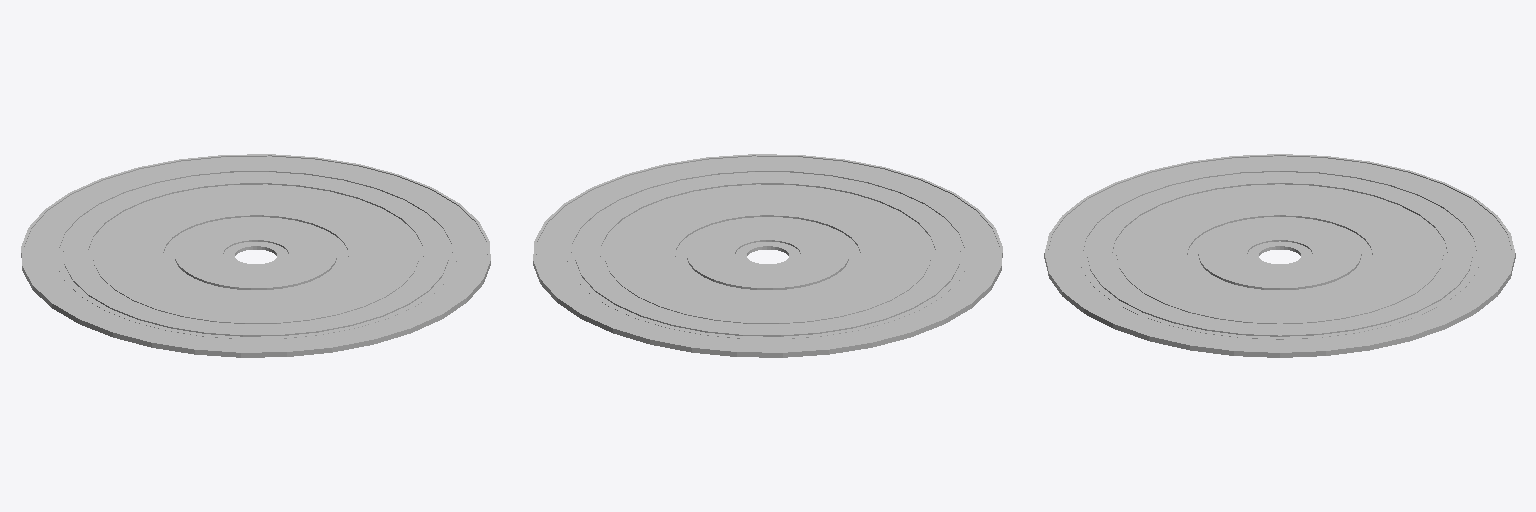
Rendered from LP_Disc.obj.
3 renders of one model, left to right at view 1: azimuth 30°, elevation 25°; view 2: azimuth 150°, elevation 25°; view 3: azimuth 270°, elevation 25°, orthographic.
Parts seen in each view (by area): view 1: LP_Disc_Cylinder.001_Cylinder.004; view 2: LP_Disc_Cylinder.001_Cylinder.004; view 3: LP_Disc_Cylinder.001_Cylinder.004.
Boxes of the visible parts, <box> form: LP_Disc_Cylinder.001_Cylinder.004: <box>21,154,490,357</box>; LP_Disc_Cylinder.001_Cylinder.004: <box>533,154,1002,357</box>; LP_Disc_Cylinder.001_Cylinder.004: <box>1044,154,1515,357</box>.
Size of the model in its own units: 3.31 by 0.0392 by 3.31.